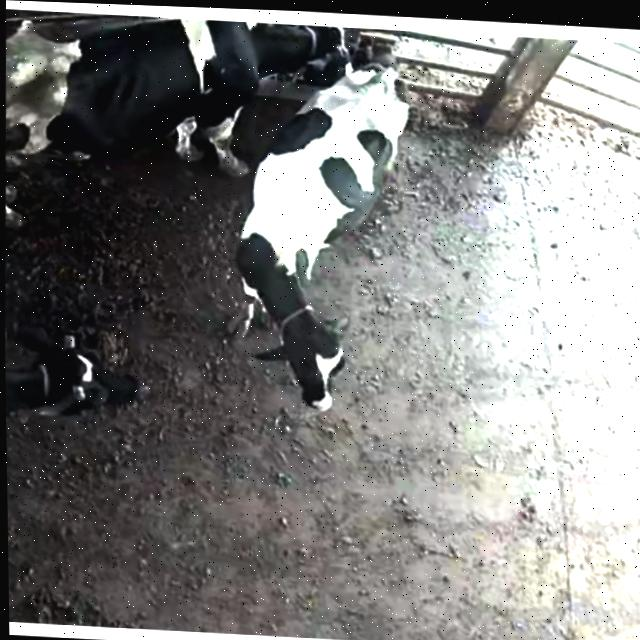drink: (193, 18, 367, 100)
